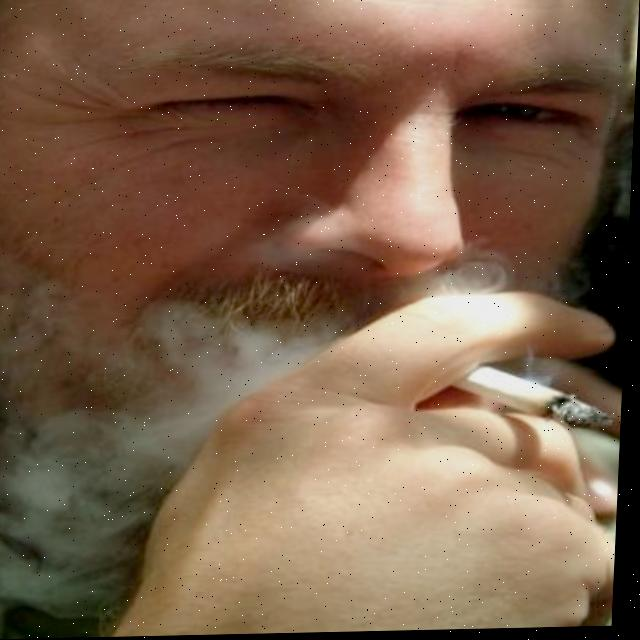cigarette: (452, 364, 621, 436)
